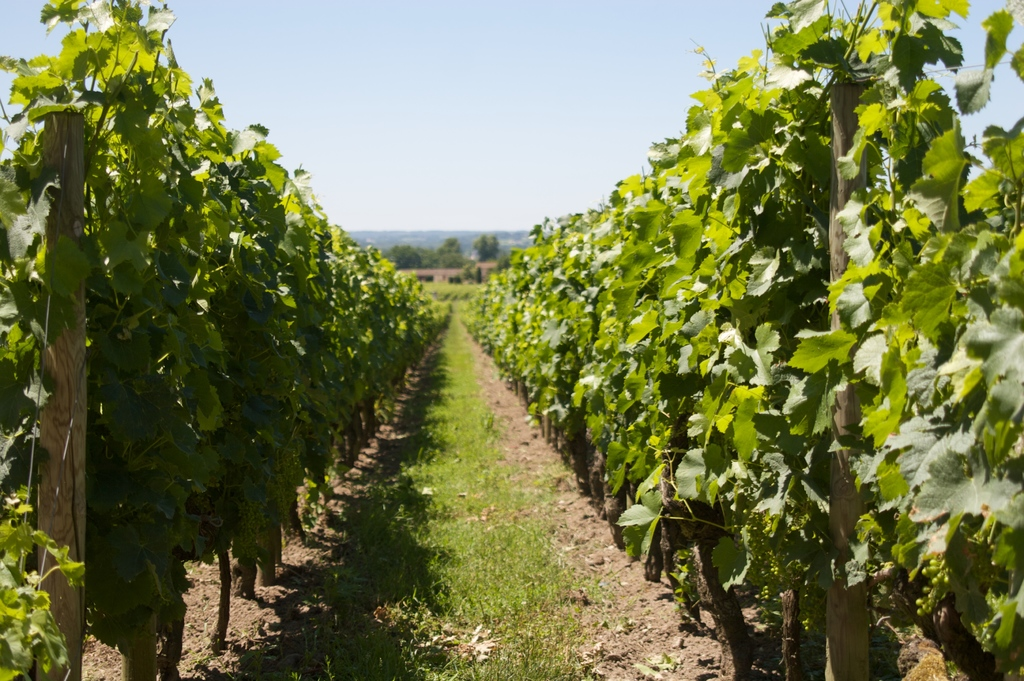Tree: (448, 0, 1023, 677), (3, 0, 429, 680), (380, 241, 430, 280), (432, 241, 468, 268), (474, 236, 499, 264)
